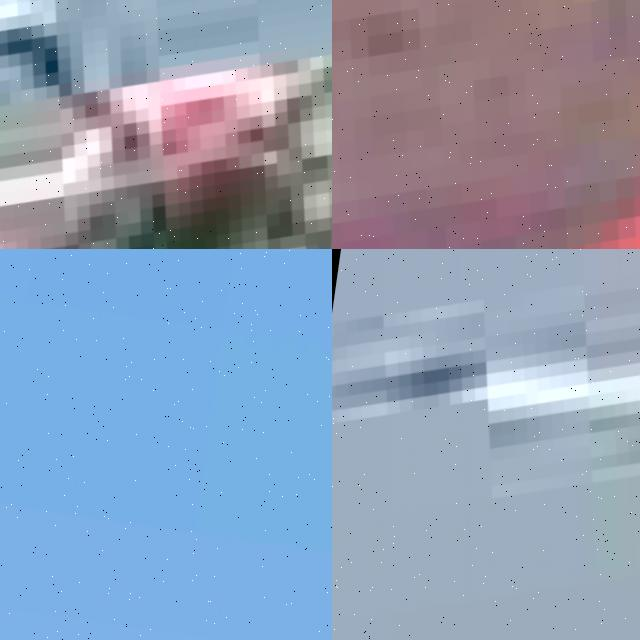drone: (332, 249, 640, 640), (0, 0, 332, 249), (332, 0, 640, 249)
